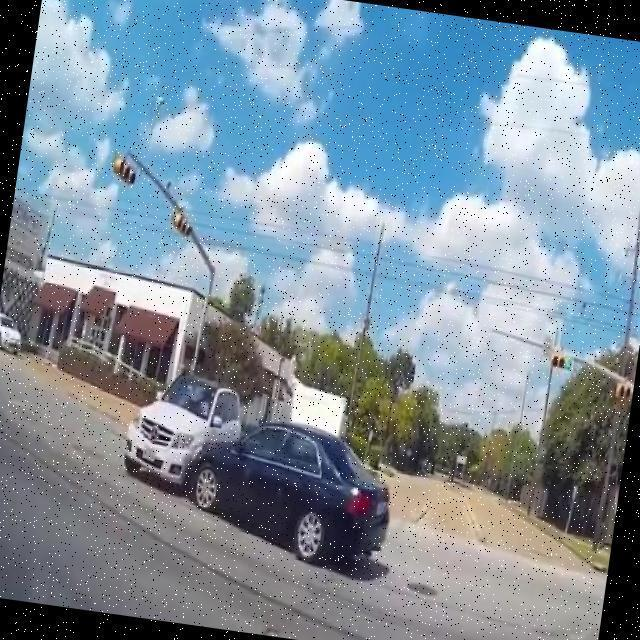accident: (99, 357, 408, 579)
